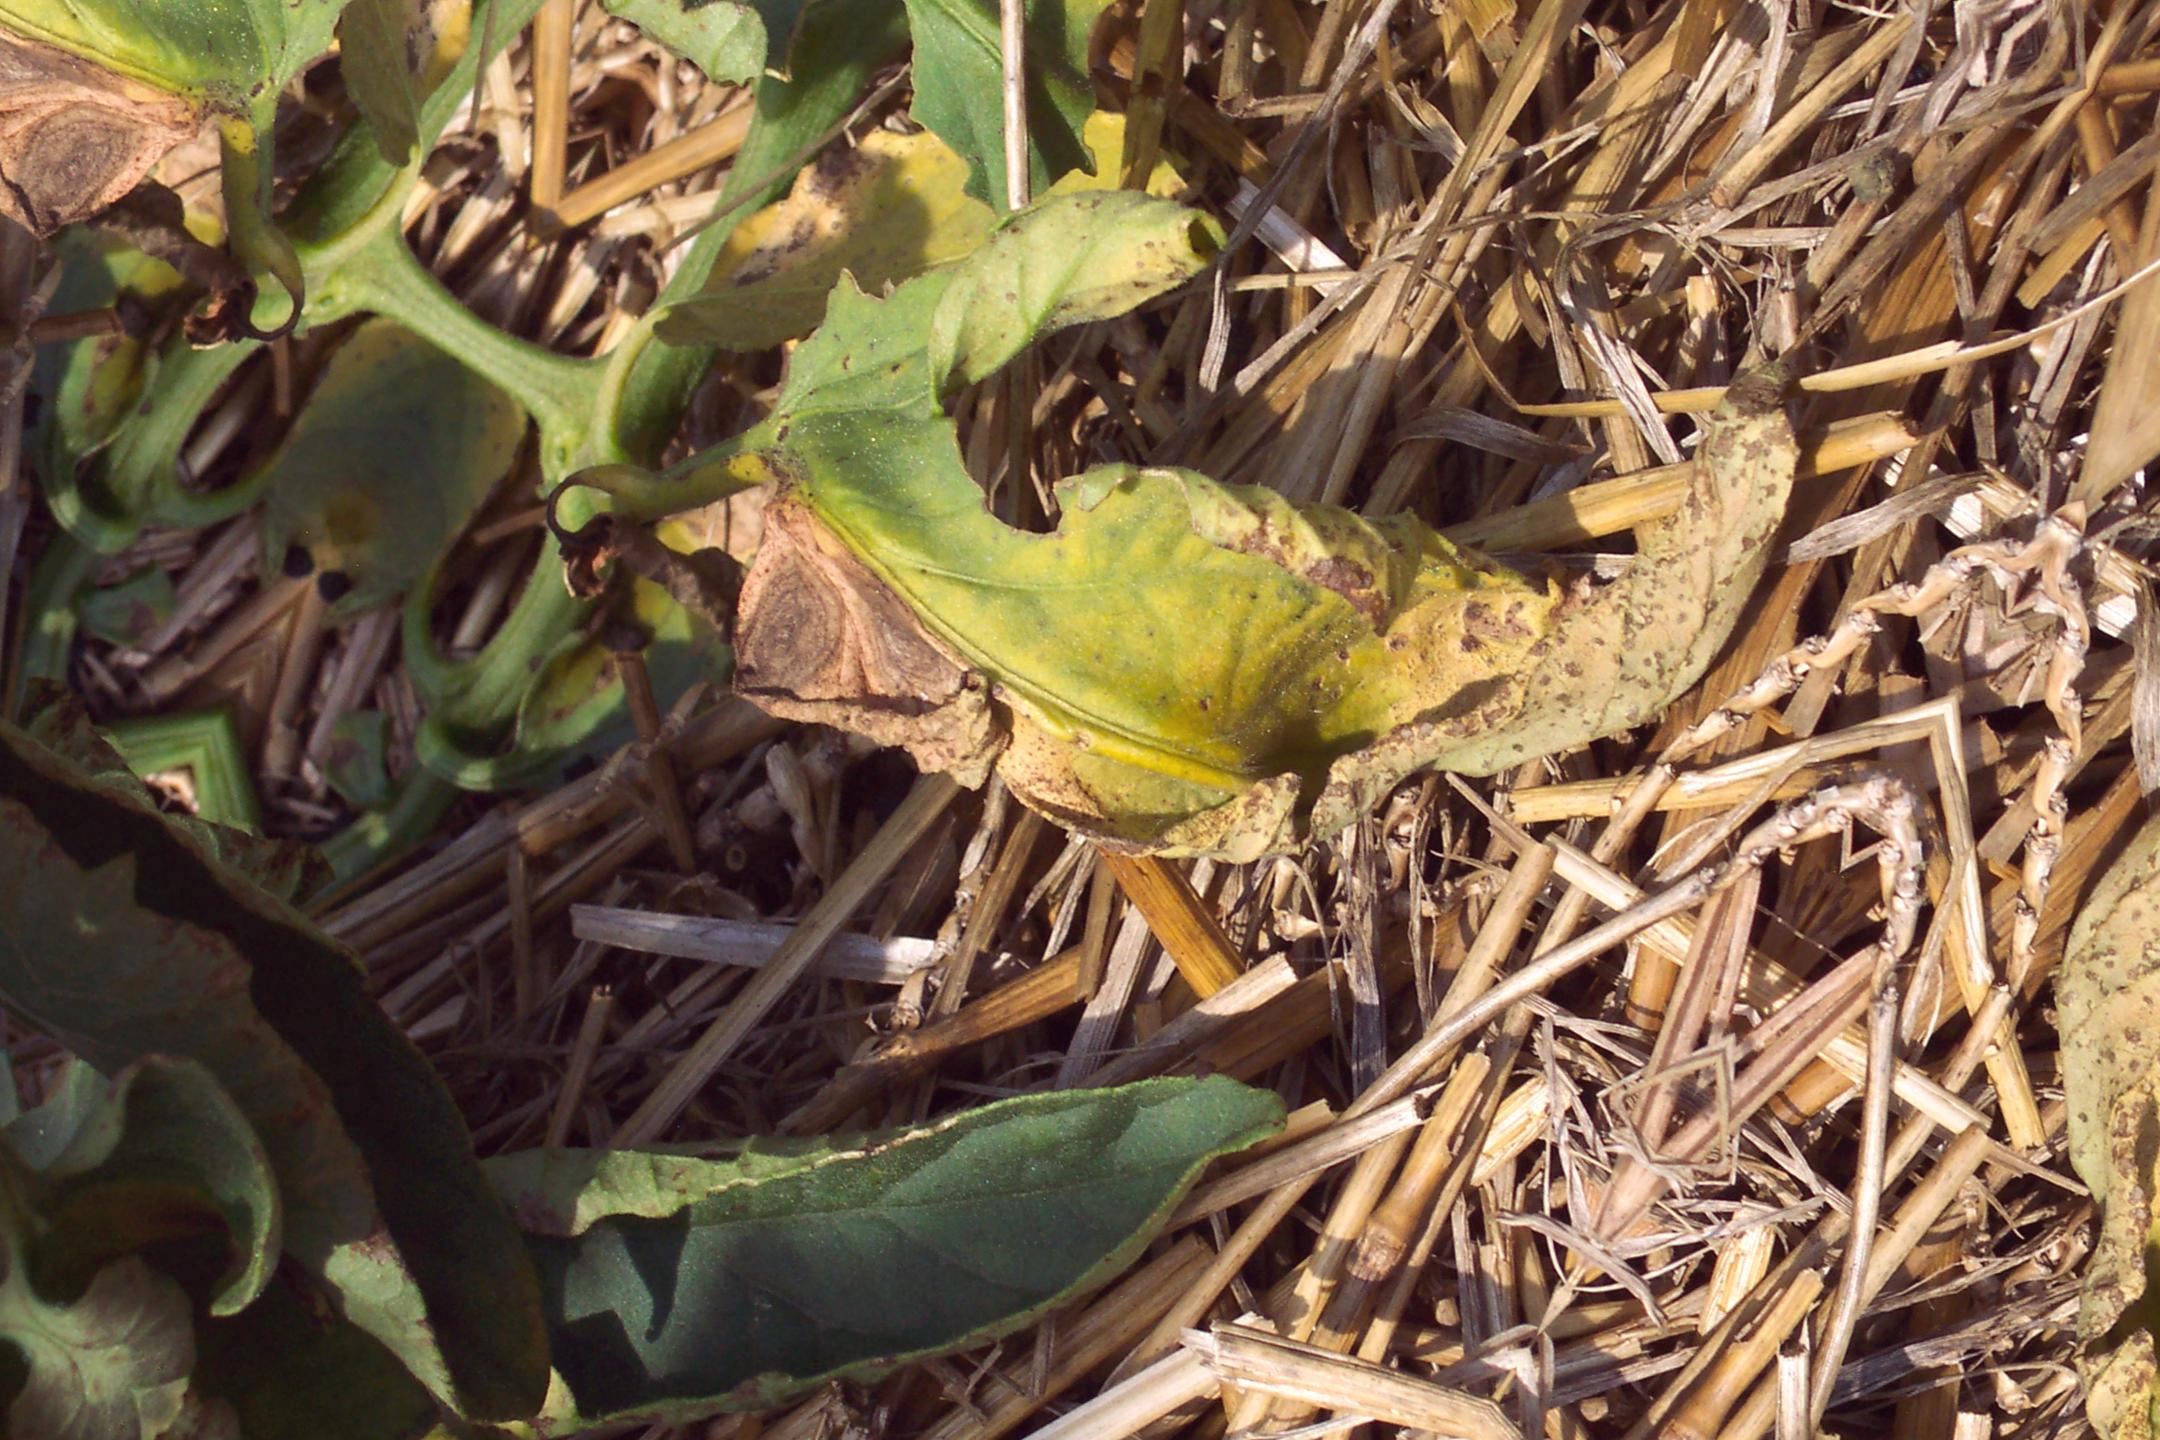Tomato Early blight leaf: (551, 0, 1839, 1154)
